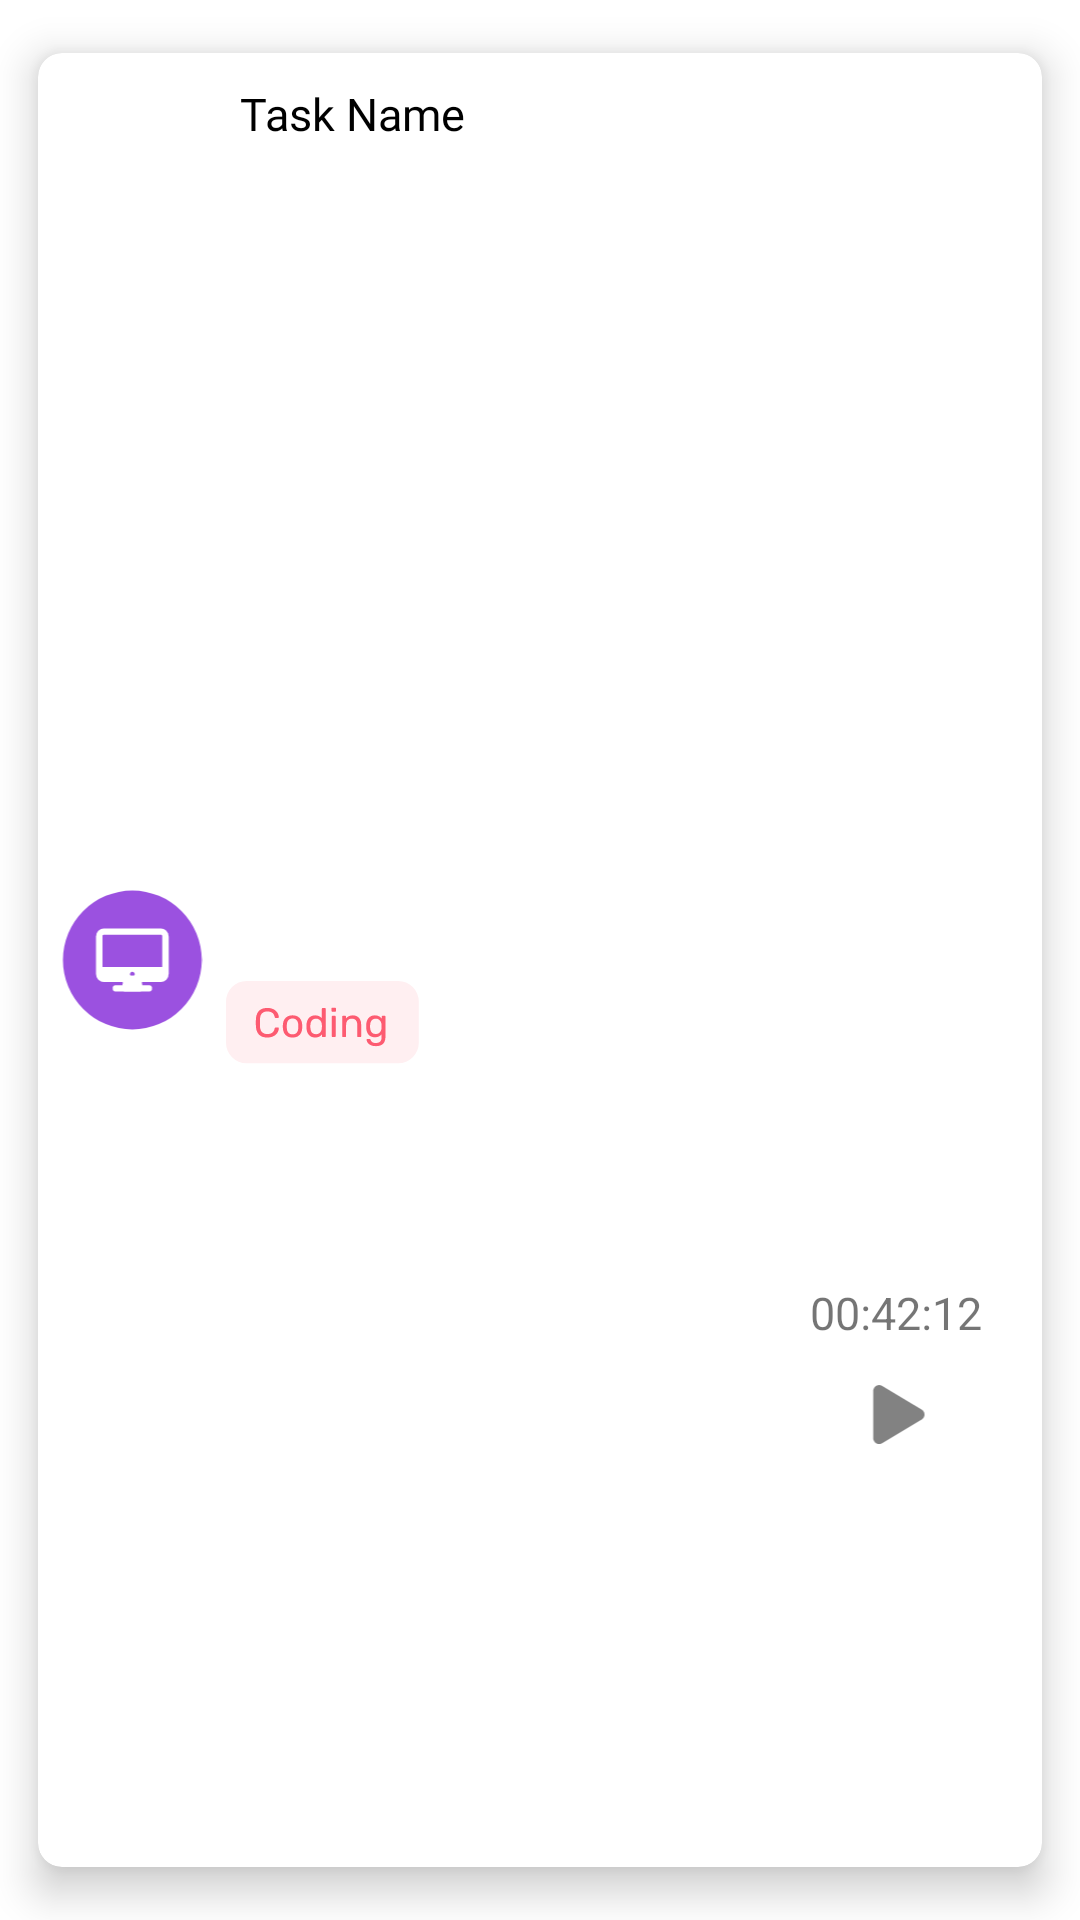

Icons on this 1080 × 1920 Android screen, each with its box as rect(x1, y1, x2, y2):
monitor: rect(62, 890, 203, 1030)
play: rect(873, 1385, 925, 1444)
